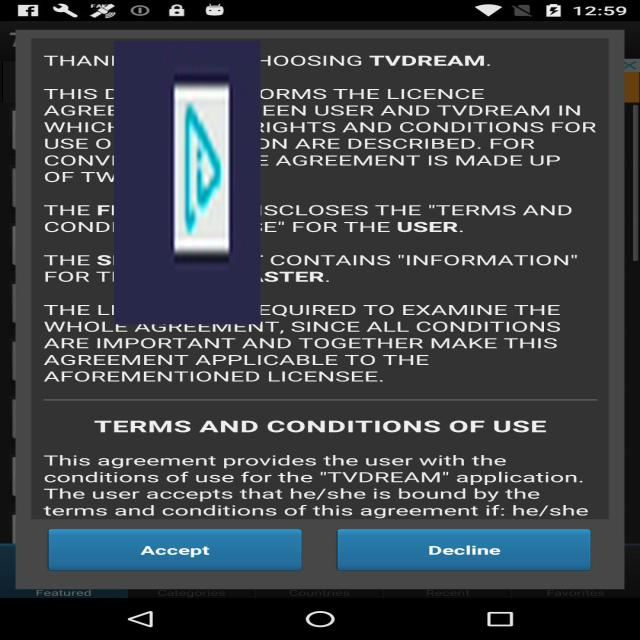sneaking: (114, 41, 261, 324)
